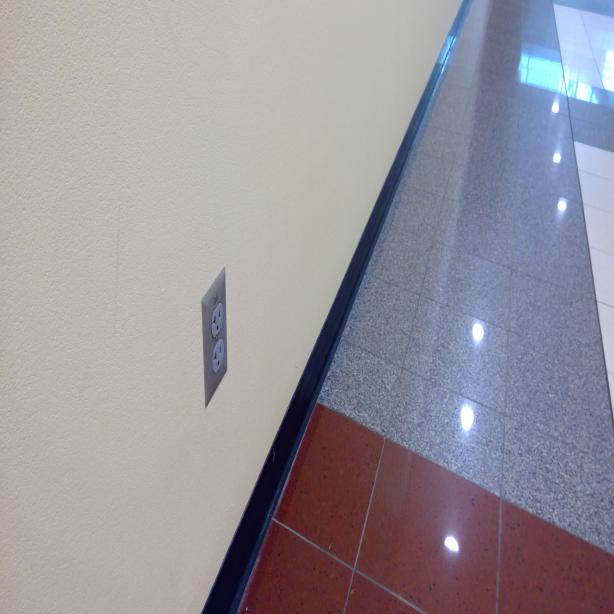typeb: (211, 304, 224, 335), (212, 344, 224, 373)
